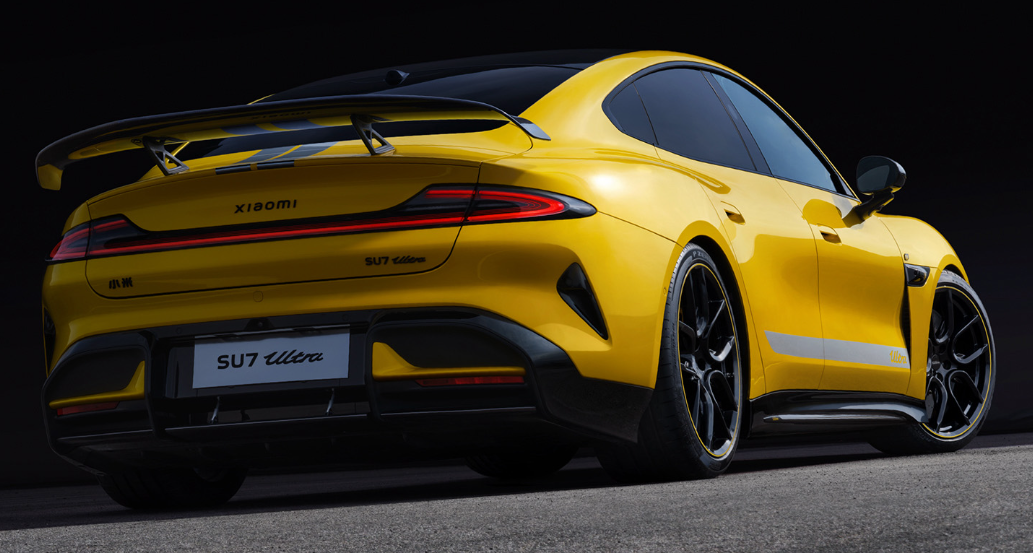su7: (40, 49, 988, 468)
